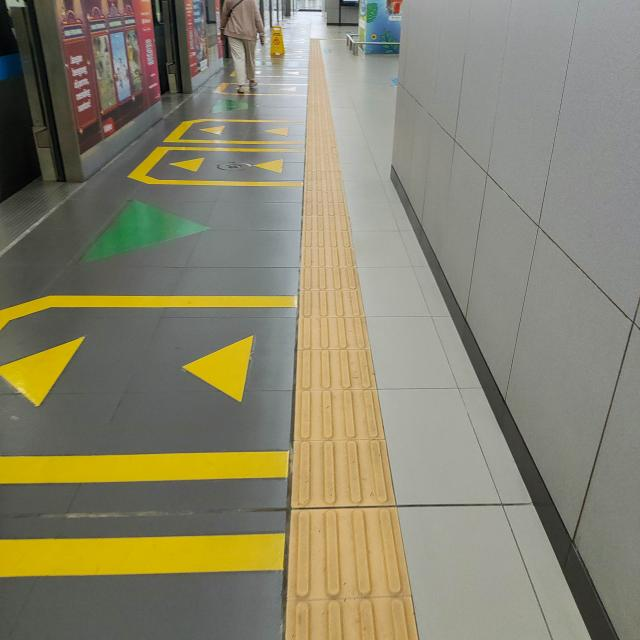lurus: (293, 48, 379, 640)
